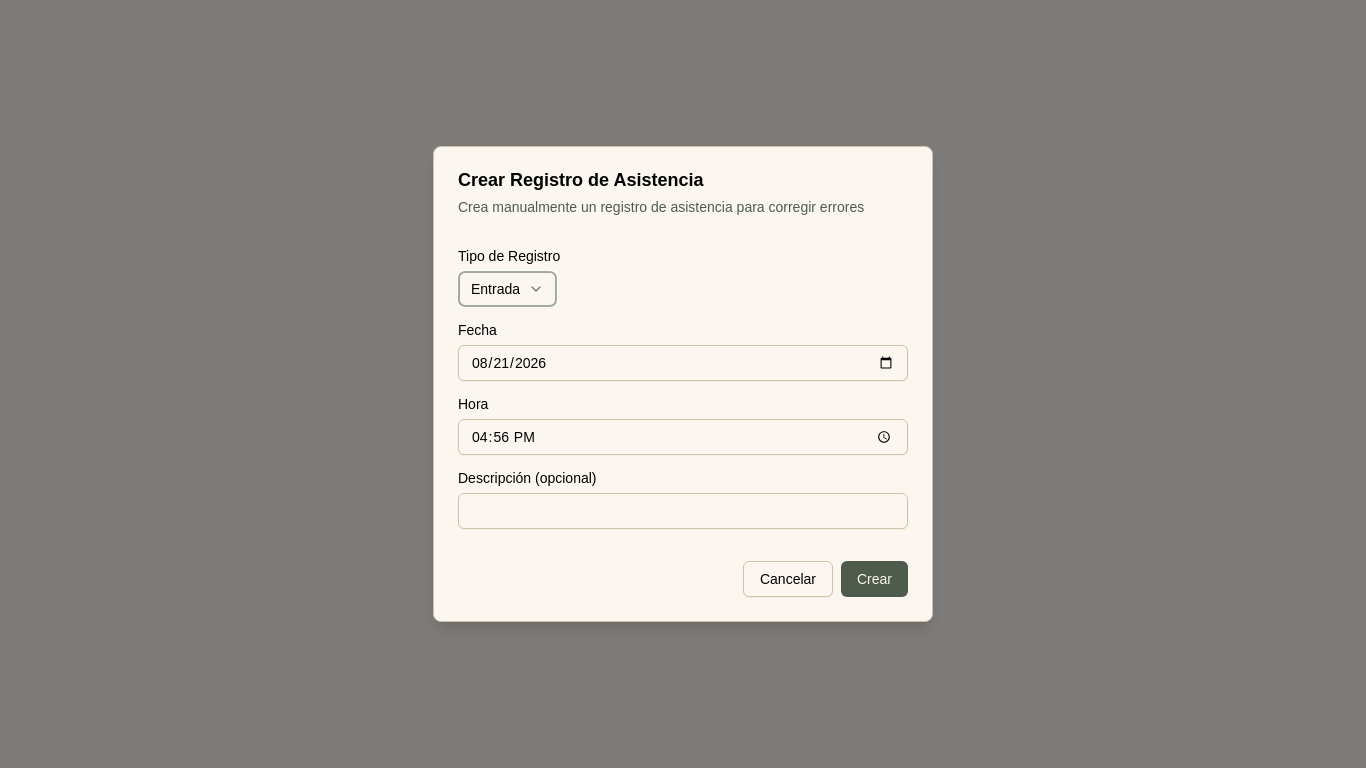
Test case: AttendanceEntryModal › Dirty state and close confirmation › shows confirmation when trying to close with changes
This screenshot has width=1366, height=768.
Replace the text in the time field labelled "Hora" with "15:00" at [683, 437], box x1=458 y1=419 x2=908 y2=455
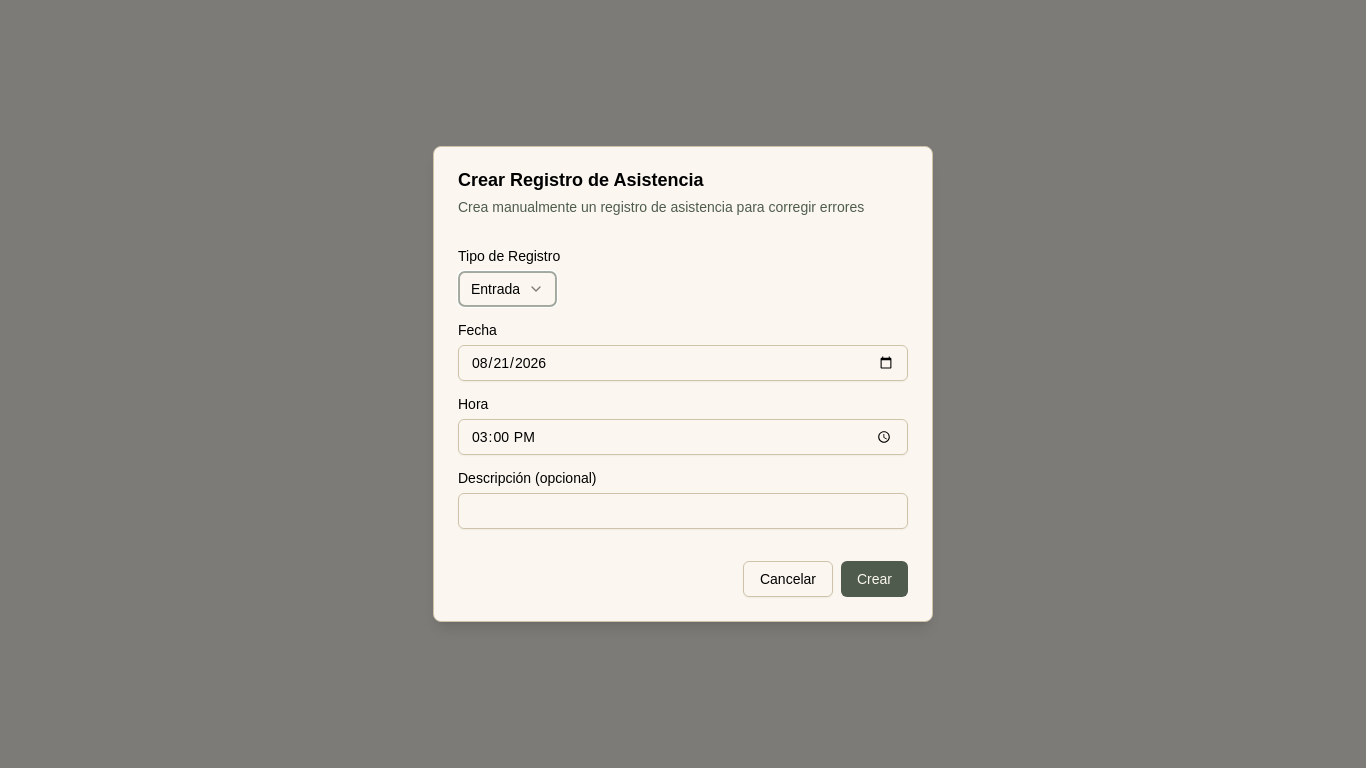
Click the button "Cancelar" at [788, 579], box x1=743 y1=561 x2=833 y2=597
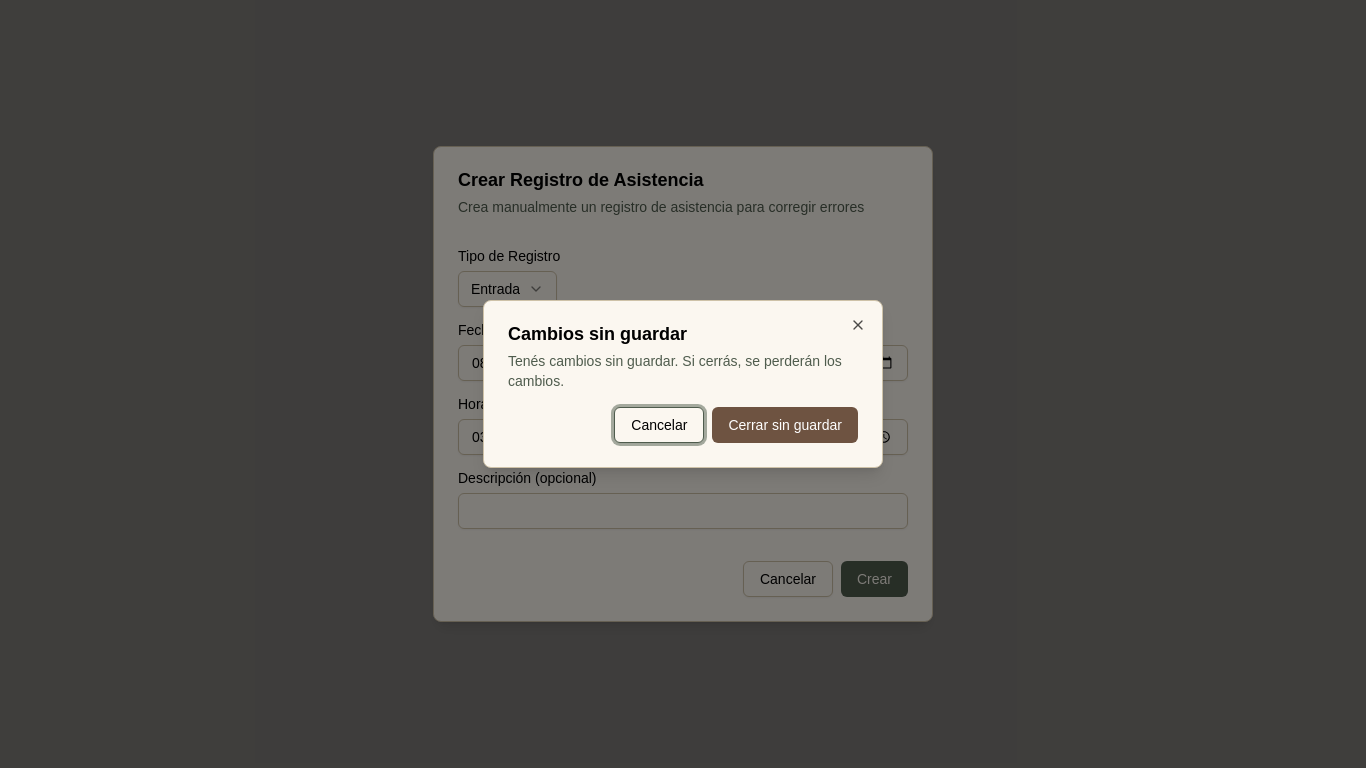
Result: the heading "Cambios sin guardar" is shown at x1=508 y1=324 x2=687 y2=344
